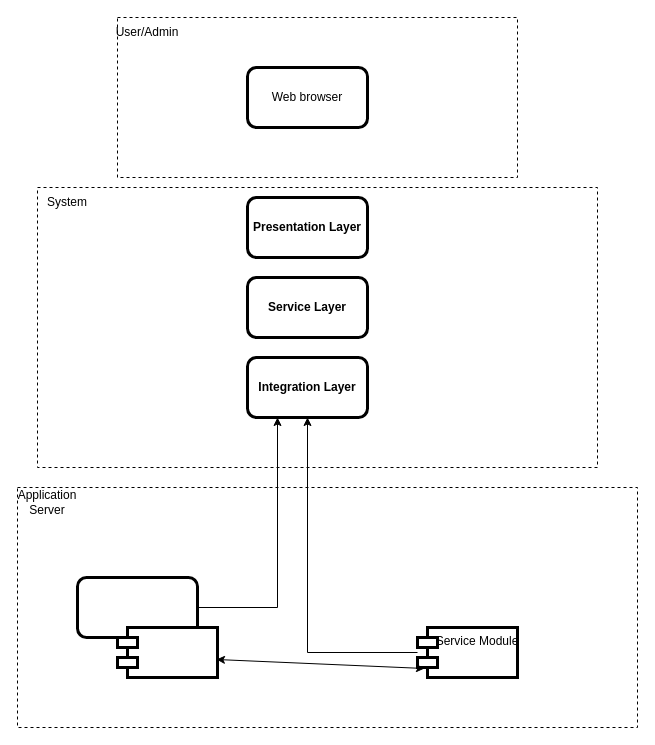
This 655x745 diagram has some shape labels left out. Each missing label, with the centre of its shape:
"Data Sources" goes at point 137,607.
"File System" goes at point 167,652.
